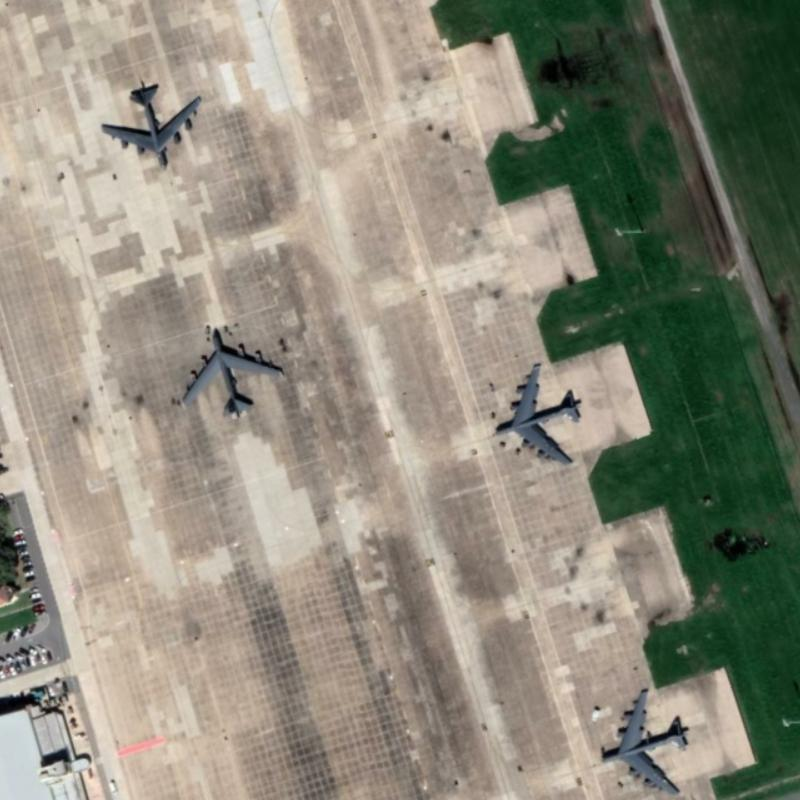A8: (172, 320, 293, 424), (590, 680, 698, 796), (484, 357, 588, 474), (92, 74, 208, 172)
